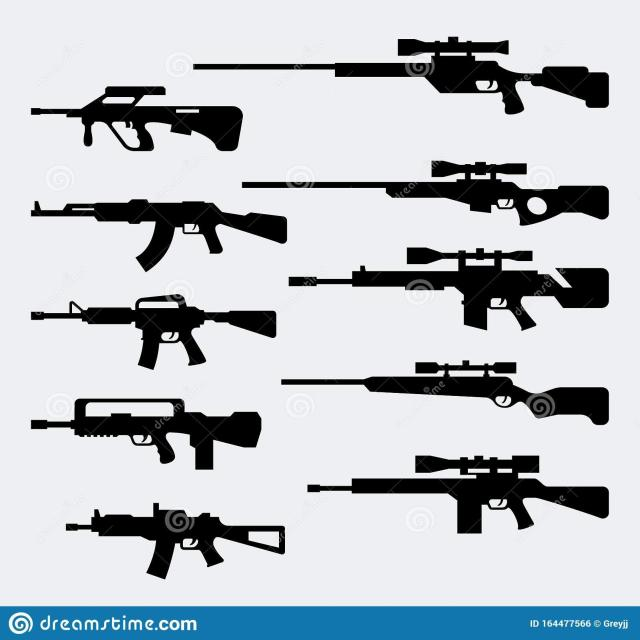weapon: (186, 27, 640, 137), (262, 231, 640, 335), (303, 440, 636, 554), (270, 343, 640, 444), (6, 167, 302, 272), (24, 281, 288, 381), (51, 493, 322, 590), (22, 379, 280, 468), (20, 76, 268, 160)
